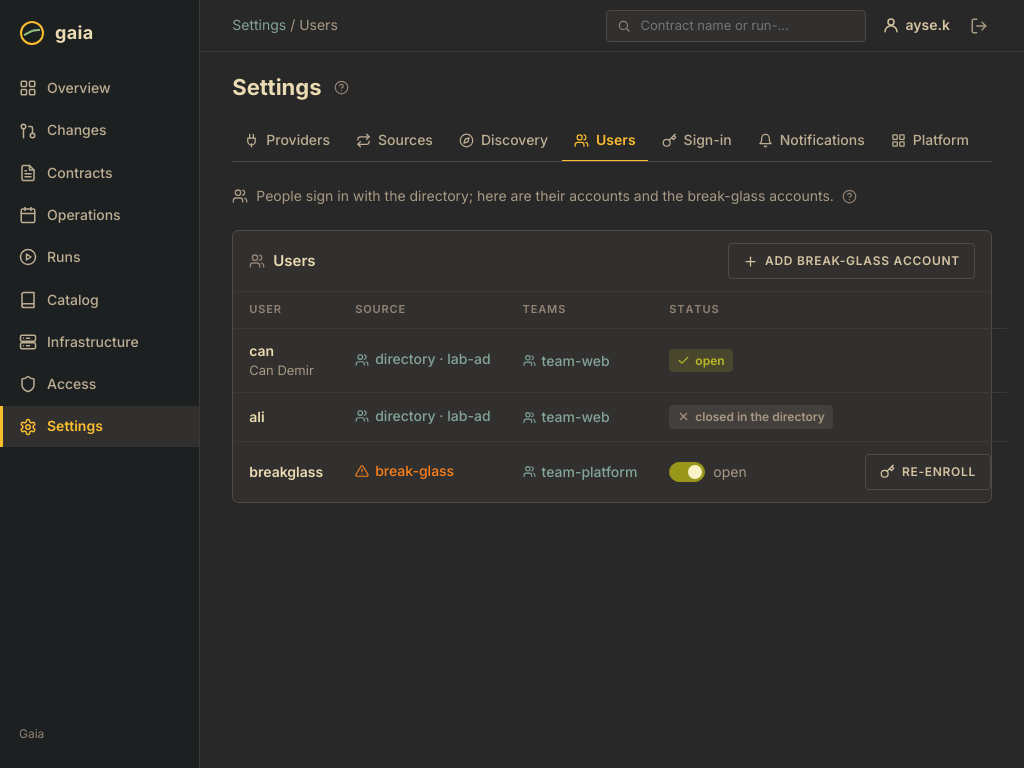
Test case: users › lists directory and break-glass accounts, and opens a break-glass account
Check: the text "can" shows "directory · lab-ad", box [233,329,1007,393]
Check: the text "can" shows "open", box [695,353,724,368]
Click the button "Add break-glass account".
click(852, 261)  # box [728,243,975,279]
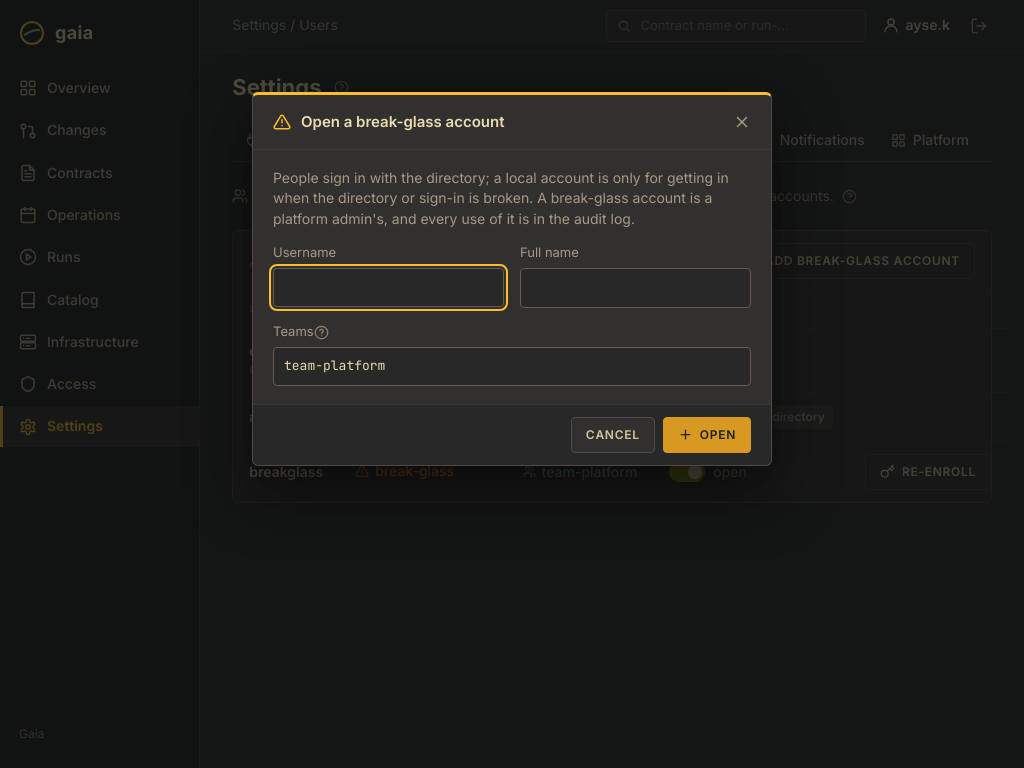
Type "emergency" into the field labelled "Username".
click(388, 287); type("emergency")  # box [273,268,504,307]
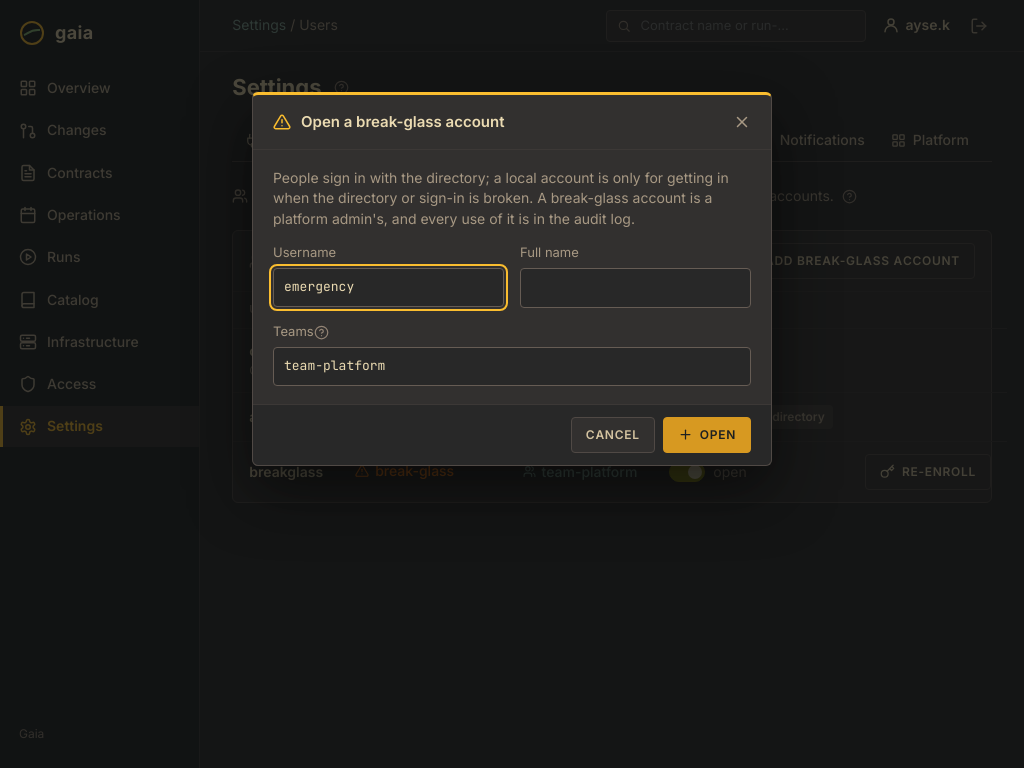
Click the button "Open".
click(707, 435)  # box [663,417,751,453]
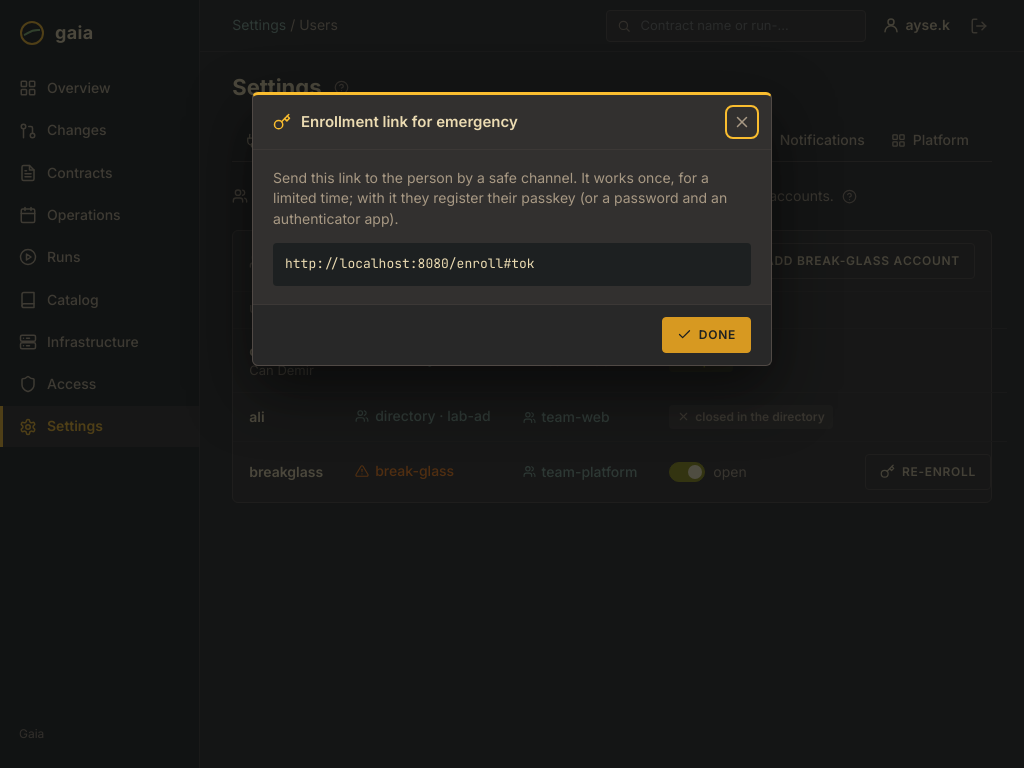
Check: the text "http://localhost:8080/enroll#tok" is shown, box [273,243,751,286]
